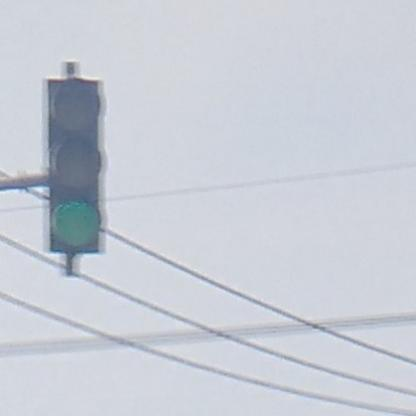green: (46, 80, 104, 252)
